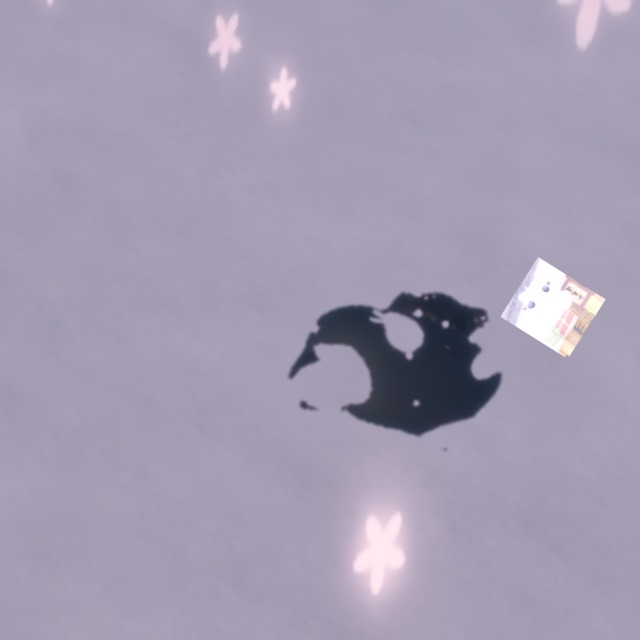urso_branco: (500, 257, 606, 359)
urso_preto: (251, 250, 547, 478)
